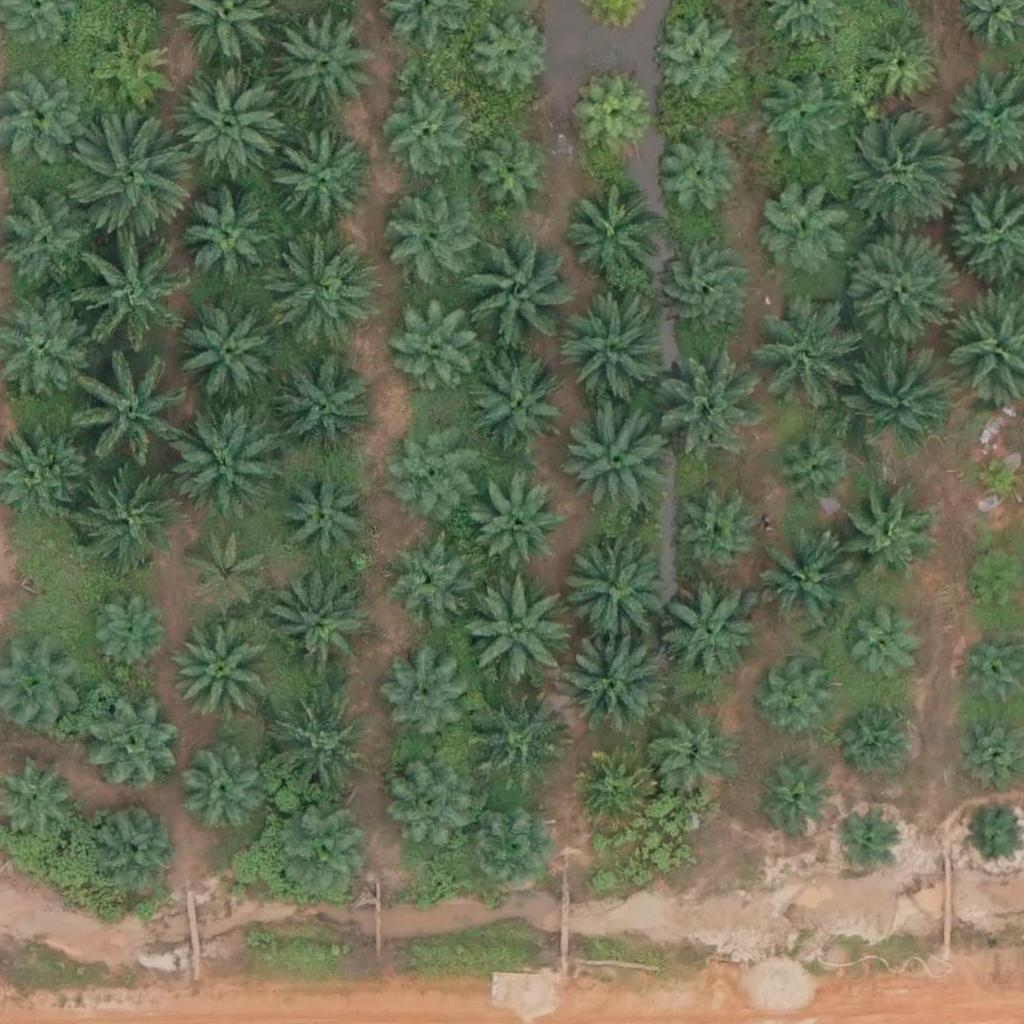Kelapa_Sawit: (554, 400, 667, 514), (840, 233, 953, 346), (559, 627, 672, 740), (551, 531, 664, 644), (263, 130, 376, 243), (264, 239, 377, 352), (174, 296, 287, 409), (73, 122, 186, 235), (840, 335, 952, 449), (557, 296, 669, 410), (459, 573, 571, 687), (838, 124, 950, 237), (651, 341, 763, 454), (455, 235, 567, 348), (259, 696, 371, 809), (175, 74, 287, 187), (172, 412, 284, 525), (75, 247, 187, 360), (75, 365, 187, 478), (70, 463, 182, 576), (834, 487, 934, 588), (748, 536, 848, 637), (748, 308, 848, 409), (658, 584, 758, 685), (561, 184, 661, 285), (464, 352, 564, 453), (466, 689, 566, 790), (385, 189, 485, 290), (274, 9, 374, 110), (268, 582, 368, 683), (181, 189, 281, 290), (172, 622, 272, 723), (755, 174, 855, 274), (653, 242, 753, 342), (277, 809, 377, 909), (81, 689, 181, 789), (2, 192, 102, 292), (275, 357, 374, 458), (566, 747, 654, 835), (855, 23, 943, 111), (769, 425, 857, 513), (650, 16, 738, 104), (476, 485, 564, 573), (378, 653, 466, 741), (376, 88, 464, 176), (92, 797, 180, 885), (755, 73, 842, 162), (389, 760, 476, 849), (187, 528, 274, 617), (652, 132, 739, 220), (674, 494, 761, 582), (651, 714, 738, 802), (468, 12, 555, 100), (465, 136, 552, 224), (467, 806, 554, 894), (379, 531, 466, 619), (388, 419, 475, 507), (391, 304, 478, 392), (282, 470, 369, 558), (86, 591, 173, 679), (184, 750, 271, 838), (88, 26, 175, 114), (840, 611, 915, 687), (842, 699, 917, 775), (574, 82, 649, 158), (760, 666, 835, 741), (758, 766, 833, 841), (831, 807, 894, 870)
